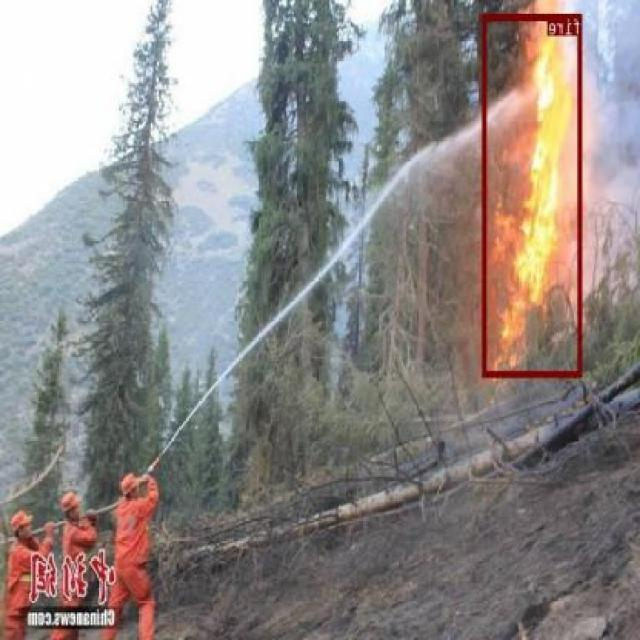Fire: (483, 12, 583, 376)
